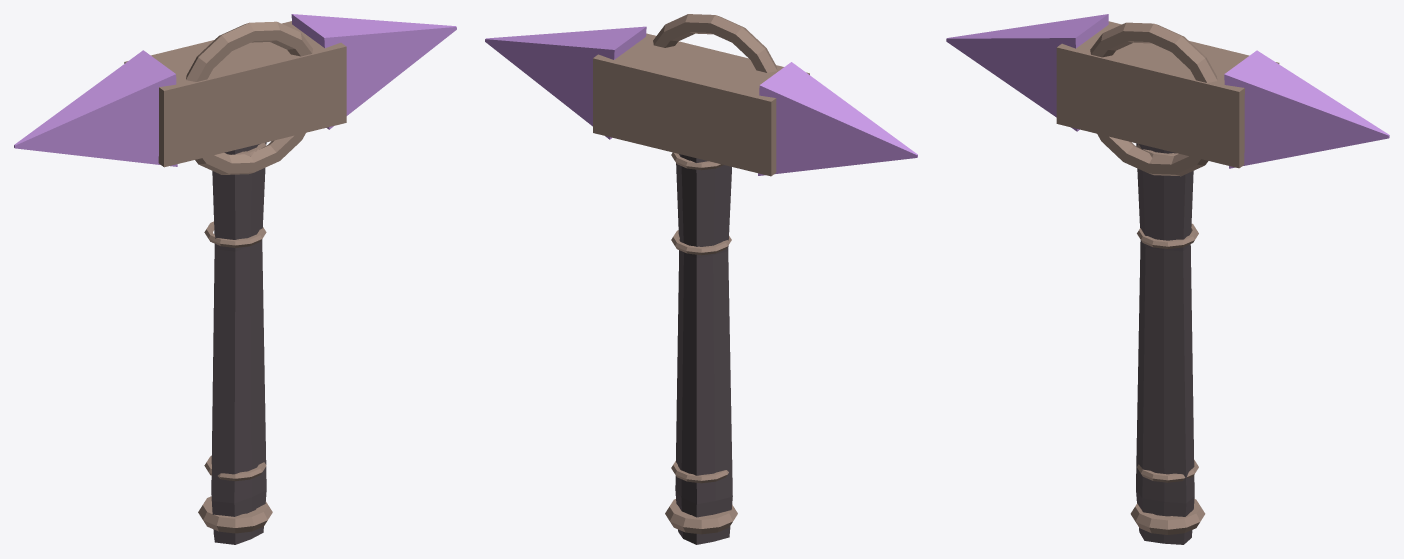
The model's file is BH_PICK_P26_Picareta_Eclipse_Enjaulado_V01.glb.
The picture shows the model from 3 angles, left to right: view 1: azimuth 30°, elevation 25°; view 2: azimuth 150°, elevation 25°; view 3: azimuth 330°, elevation 25°; orthographic projection. The views are drawn at different scales.
Parts seen in each view (by area): view 1: Head | main crossbar.001, Handle | shaped shaft.001, Head | mining tooth L.001, Head | mining tooth R.001, Head | arcane frame.001, Handle | pommel.001, Handle | binding 3.001; view 2: Head | main crossbar.001, Handle | shaped shaft.001, Head | mining tooth L.001, Head | mining tooth R.001, Head | arcane frame.001, Handle | pommel.001, Handle | binding 3.001, Handle | binding 1.001; view 3: Handle | shaped shaft.001, Head | main crossbar.001, Head | mining tooth R.001, Head | mining tooth L.001, Head | arcane frame.001, Handle | pommel.001, Handle | binding 3.001.
Boxes of the visible parts, box(x1,y1,x2,y2) form: Head | main crossbar.001: box(124, 21, 346, 167); Handle | shaped shaft.001: box(211, 142, 266, 544); Head | mining tooth L.001: box(14, 50, 177, 166); Head | mining tooth R.001: box(291, 14, 456, 129); Head | arcane frame.001: box(186, 21, 312, 174); Handle | pommel.001: box(198, 496, 272, 533); Handle | binding 3.001: box(204, 221, 266, 247); Head | main crossbar.001: box(593, 33, 809, 176); Handle | shaped shaft.001: box(675, 154, 732, 544); Head | mining tooth L.001: box(758, 62, 917, 175); Head | mining tooth R.001: box(485, 26, 646, 139); Head | arcane frame.001: box(653, 14, 777, 72); Handle | pommel.001: box(665, 499, 737, 534); Handle | binding 3.001: box(671, 230, 731, 255); Handle | binding 1.001: box(671, 461, 728, 483); Handle | shaped shaft.001: box(1136, 143, 1194, 544); Head | main crossbar.001: box(1056, 21, 1279, 168); Head | mining tooth R.001: box(1224, 50, 1389, 168); Head | mining tooth L.001: box(946, 14, 1108, 131); Head | arcane frame.001: box(1090, 22, 1217, 176); Handle | pommel.001: box(1130, 499, 1205, 534); Handle | binding 3.001: box(1137, 223, 1198, 248).
Size of the model in its own units: 2.18 by 2.46 by 0.34.
